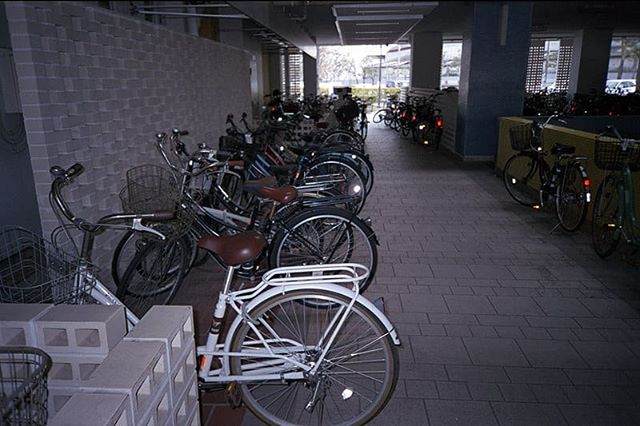bicicle: (30, 201, 394, 426), (123, 158, 388, 304), (206, 133, 382, 220), (497, 115, 601, 228), (587, 128, 640, 260)
collumn: (454, 1, 545, 162)
